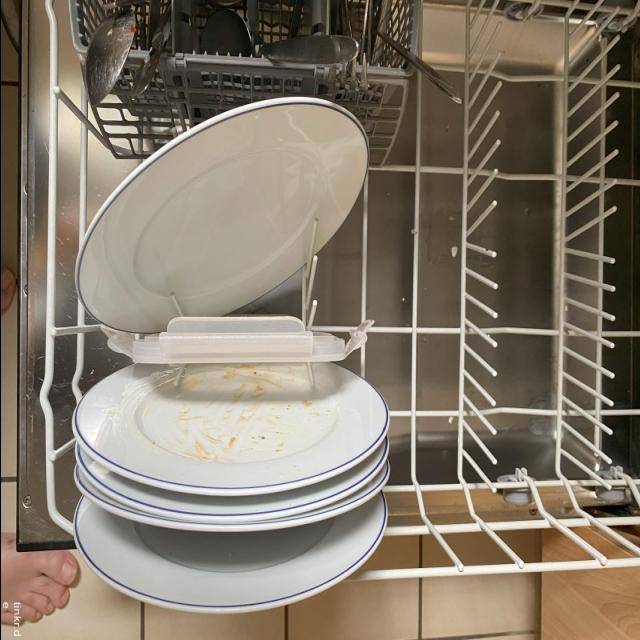empty_slot: (435, 3, 638, 563)
